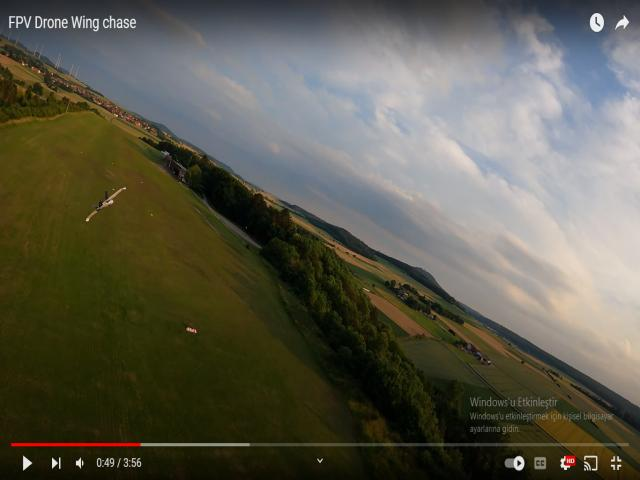plane: (86, 186, 128, 221)
